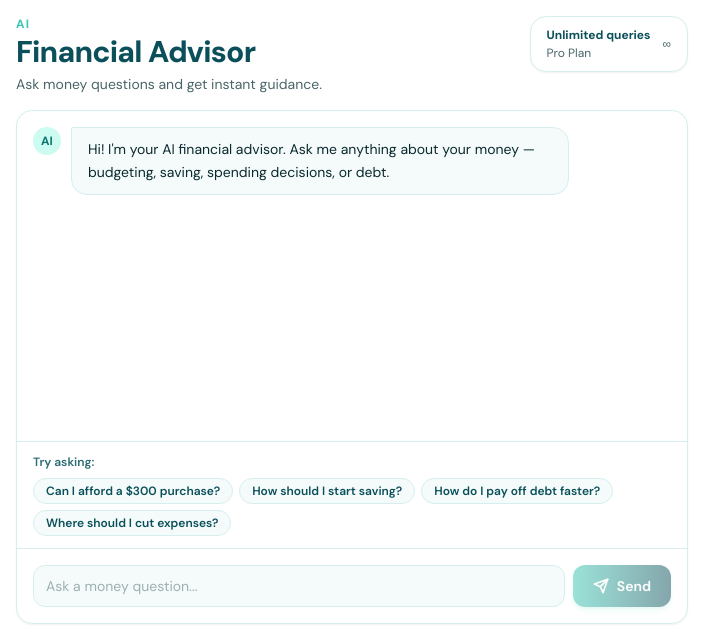
Test: AdvisorPage — chat flow › sends the message to /api/ai/advisor with a Bearer token and renders the reply
Type "Can I afford coffee?" into the field with placeholder "Ask a money question..." at (299, 586), box [33,565,565,607]
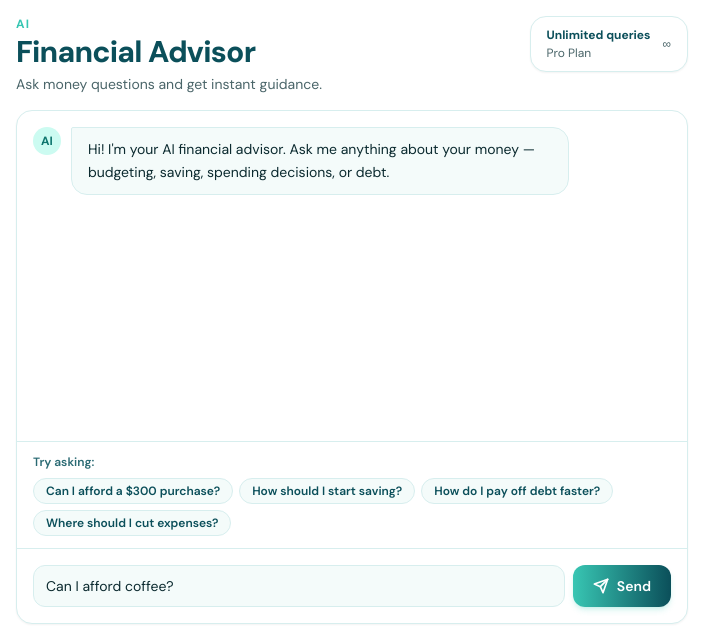
Submit the form, box [33,565,671,607]
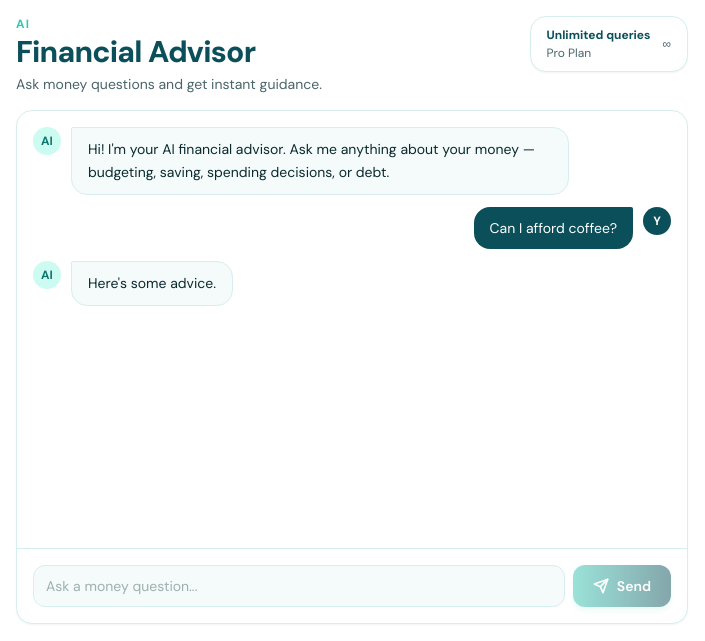
Now the text "Here's some advice." is shown, box [88,272,216,295]
Now the text "Can I afford coffee?" is shown, box [474,206,633,249]
